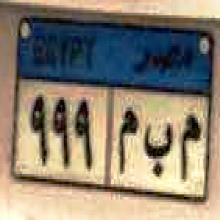9: (73, 98, 95, 170), (51, 97, 70, 167), (32, 93, 47, 163)
baa: (144, 113, 172, 177)
meem: (174, 111, 204, 184), (115, 104, 139, 176)
